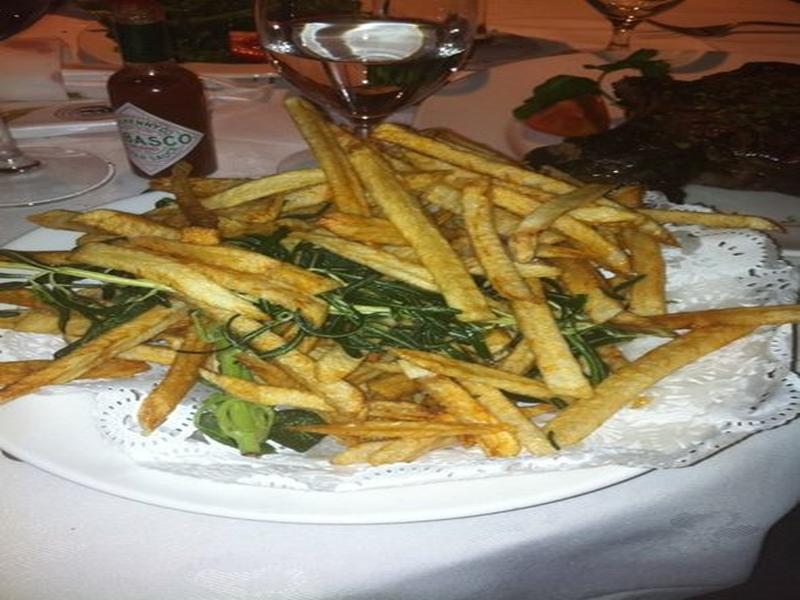french_fries: (25, 88, 761, 518)
